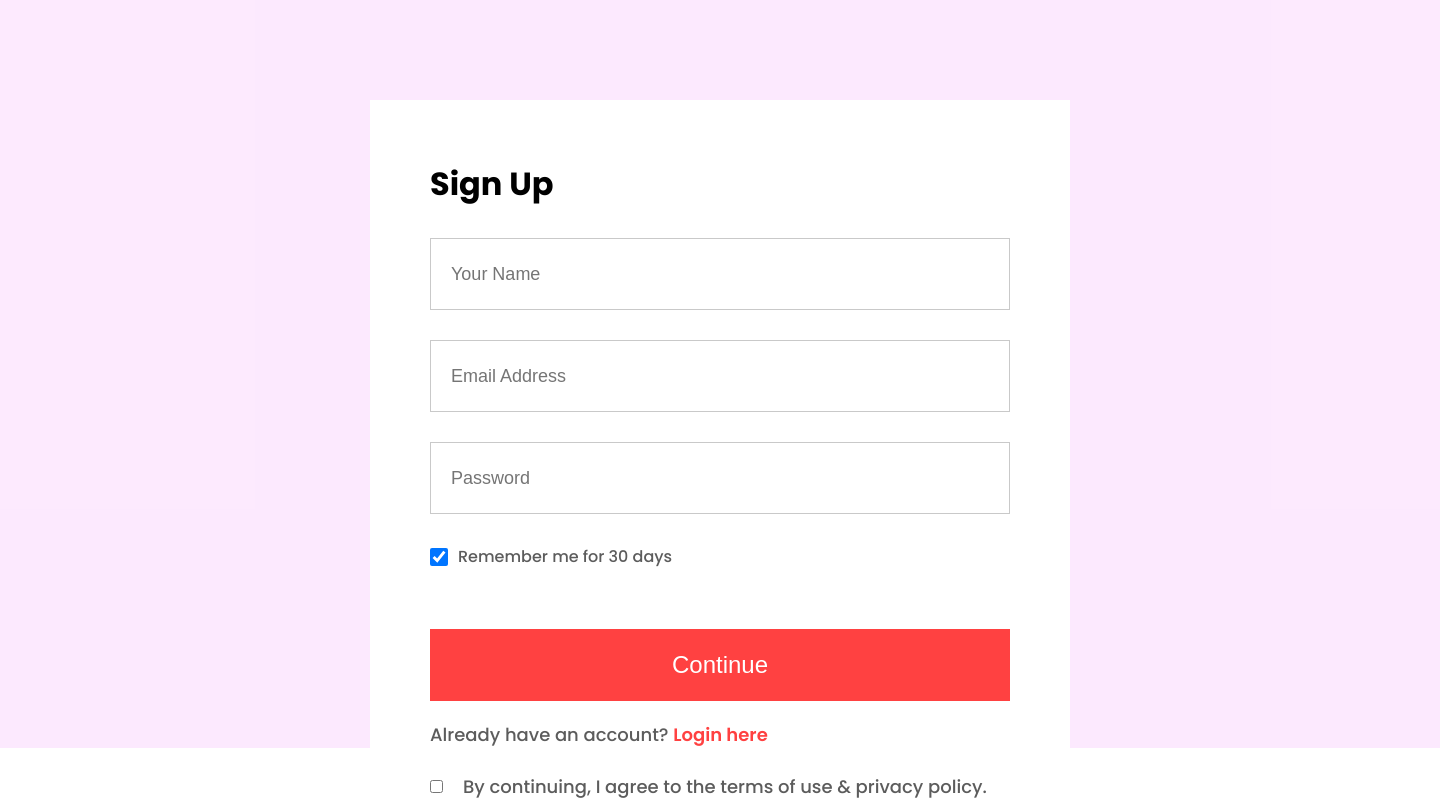
Test: signup requires a name
The width and height of the screenshot is (1440, 810).
Click the button "Continue". click: (720, 665)
box: [430,629,1010,701]
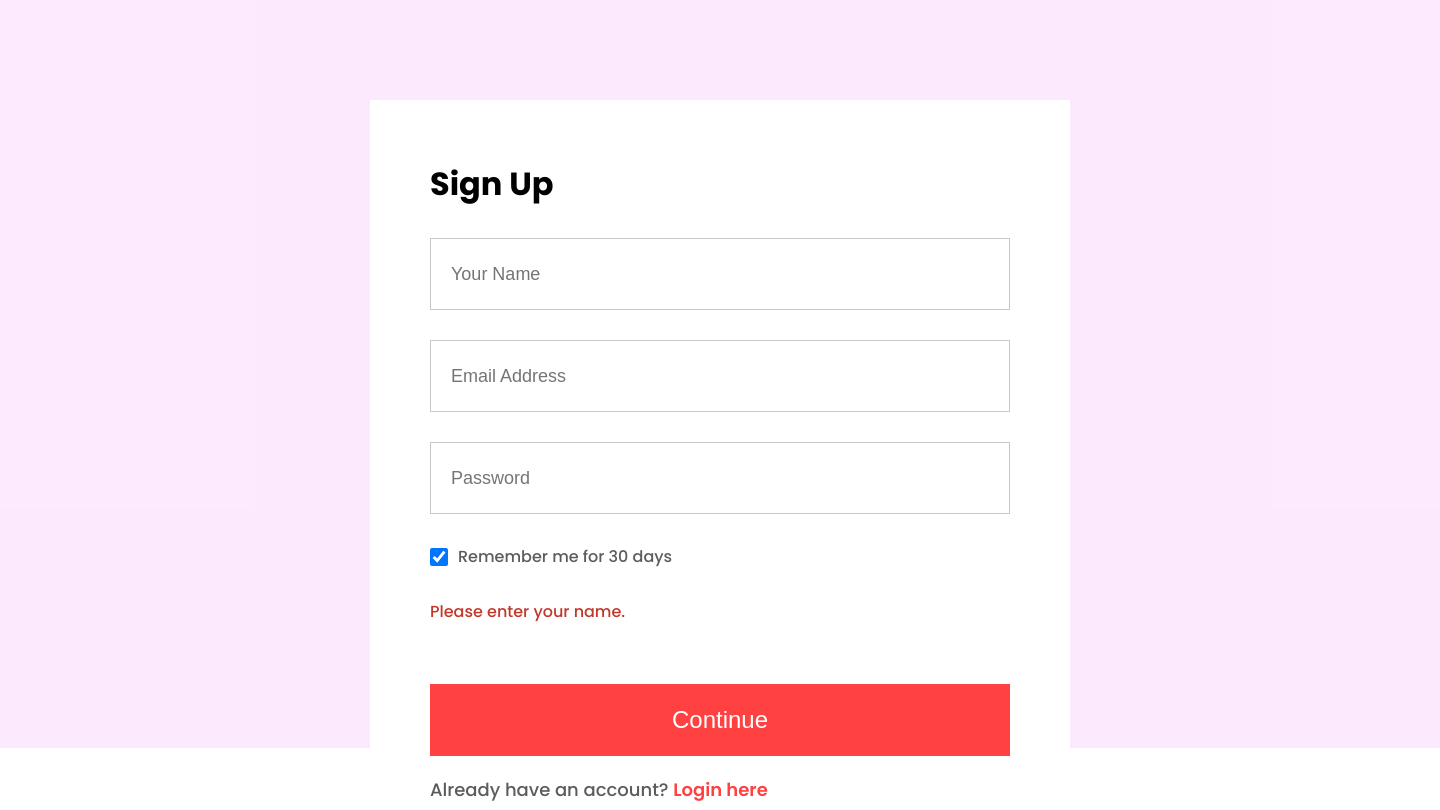
Result: the text "Please enter your name." is shown at [430,600,625,623]
